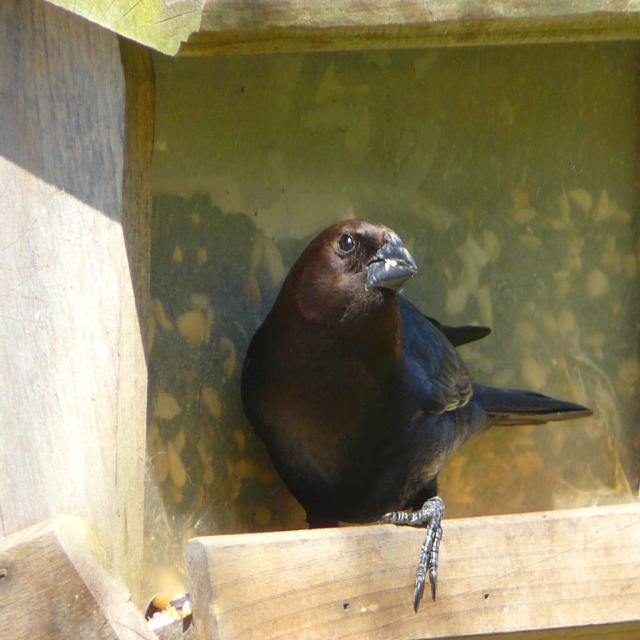bird: (232, 223, 593, 615)
